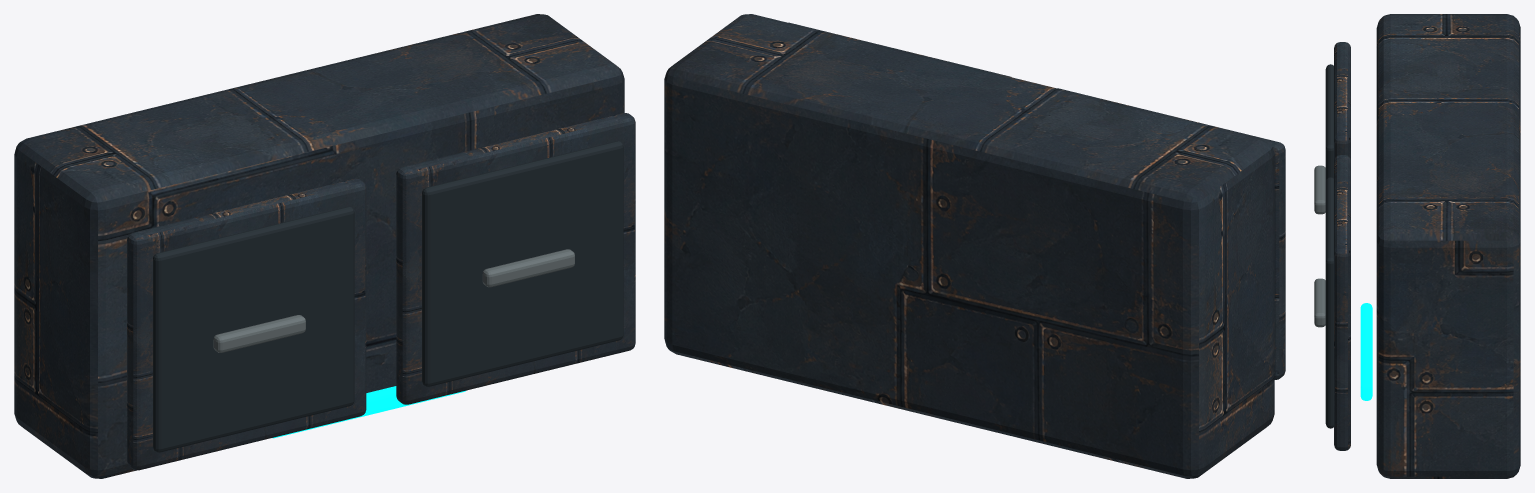
Rendered from APT_Cabinet_Wall_Kitchen.glb.
The picture shows the model from 3 angles, left to right: view 1: azimuth 30°, elevation 25°; view 2: azimuth 150°, elevation 25°; view 3: azimuth 270°, elevation 25°; orthographic projection. The views are drawn at different scales.
Parts seen in each view (by area): view 1: APT_Cabinet_Wall_Kitchen_Body, APT_Cabinet_Wall_Kitchen_Left_Inset, APT_Cabinet_Wall_Kitchen_Right_Inset, APT_Cabinet_Wall_Kitchen_Right_Face, APT_Cabinet_Wall_Kitchen_Left_Face, APT_Cabinet_Wall_Kitchen_Right_Handle, APT_Cabinet_Wall_Kitchen_Left_Handle, APT_Cabinet_Wall_Kitchen_Undersource; view 2: APT_Cabinet_Wall_Kitchen_Body, APT_Cabinet_Wall_Kitchen_Left_Face; view 3: APT_Cabinet_Wall_Kitchen_Body, APT_Cabinet_Wall_Kitchen_Right_Face, APT_Cabinet_Wall_Kitchen_Right_Inset, APT_Cabinet_Wall_Kitchen_Left_Face, APT_Cabinet_Wall_Kitchen_Undersource, APT_Cabinet_Wall_Kitchen_Left_Inset, APT_Cabinet_Wall_Kitchen_Left_Handle, APT_Cabinet_Wall_Kitchen_Right_Handle.
Boxes of the visible parts, left/top/right/bottom form: APT_Cabinet_Wall_Kitchen_Body: left=14, top=14, right=624, bottom=478; APT_Cabinet_Wall_Kitchen_Left_Inset: left=153, top=206, right=354, bottom=452; APT_Cabinet_Wall_Kitchen_Right_Inset: left=422, top=141, right=623, bottom=386; APT_Cabinet_Wall_Kitchen_Right_Face: left=396, top=113, right=635, bottom=404; APT_Cabinet_Wall_Kitchen_Left_Face: left=127, top=178, right=366, bottom=470; APT_Cabinet_Wall_Kitchen_Right_Handle: left=482, top=249, right=574, bottom=287; APT_Cabinet_Wall_Kitchen_Left_Handle: left=213, top=315, right=305, bottom=352; APT_Cabinet_Wall_Kitchen_Undersource: left=272, top=386, right=466, bottom=438; APT_Cabinet_Wall_Kitchen_Body: left=664, top=14, right=1274, bottom=478; APT_Cabinet_Wall_Kitchen_Left_Face: left=1057, top=88, right=1285, bottom=379; APT_Cabinet_Wall_Kitchen_Body: left=1376, top=14, right=1520, bottom=478; APT_Cabinet_Wall_Kitchen_Right_Face: left=1334, top=155, right=1350, bottom=450; APT_Cabinet_Wall_Kitchen_Right_Inset: left=1325, top=177, right=1333, bottom=428; APT_Cabinet_Wall_Kitchen_Left_Face: left=1334, top=42, right=1350, bottom=160; APT_Cabinet_Wall_Kitchen_Undersource: left=1360, top=303, right=1372, bottom=400; APT_Cabinet_Wall_Kitchen_Left_Inset: left=1325, top=64, right=1333, bottom=181; APT_Cabinet_Wall_Kitchen_Left_Handle: left=1314, top=165, right=1325, bottom=214; APT_Cabinet_Wall_Kitchen_Right_Handle: left=1314, top=278, right=1325, bottom=327.
Size of the model in its own units: 1.56 by 0.8 by 0.6025.
4 materials, 1 textured.
